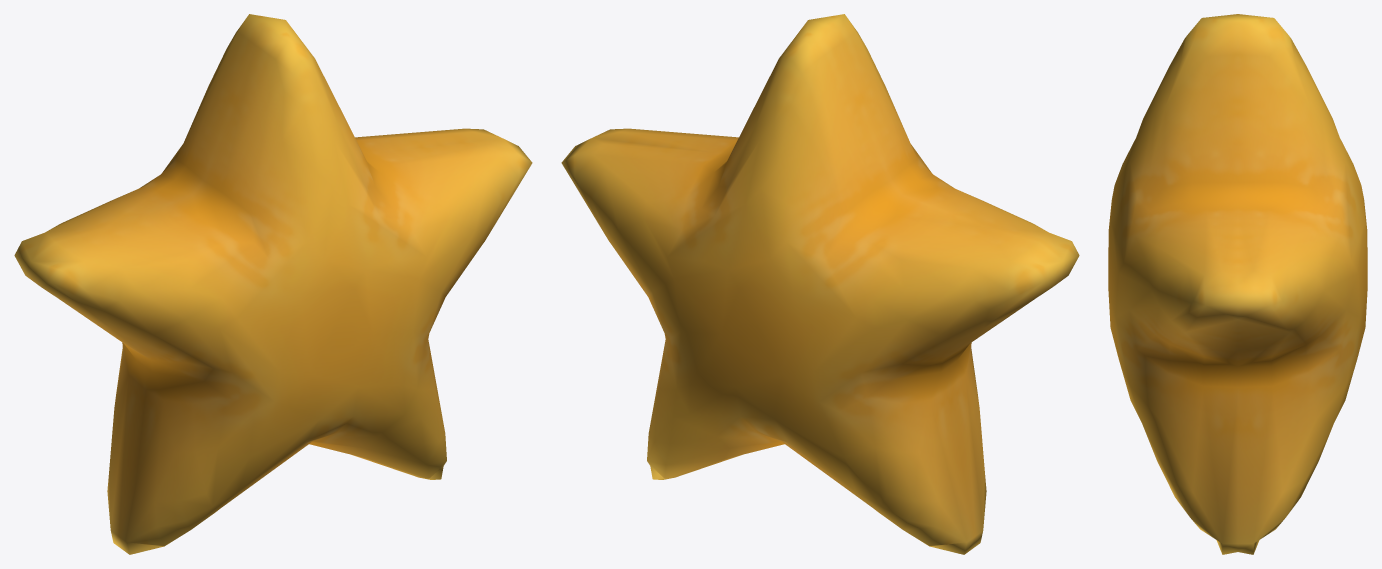
File: PartyBalloons02_3.FBX
The picture shows the model from 3 angles, left to right: view 1: azimuth 30°, elevation 25°; view 2: azimuth 150°, elevation 25°; view 3: azimuth 270°, elevation 25°; orthographic projection. The views are drawn at different scales.
Parts seen in each view (by area): view 1: PartyBalloons02_3; view 2: PartyBalloons02_3; view 3: PartyBalloons02_3.
Boxes of the visible parts, x1,y1,x2,y2 form: PartyBalloons02_3: [14, 14, 532, 554]; PartyBalloons02_3: [561, 14, 1079, 554]; PartyBalloons02_3: [1108, 14, 1367, 554].
Size of what is drawn, in the model's own units: 0.4292 by 0.4119 by 0.2087.
